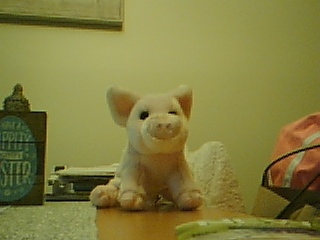piggy: (88, 83, 206, 213)
